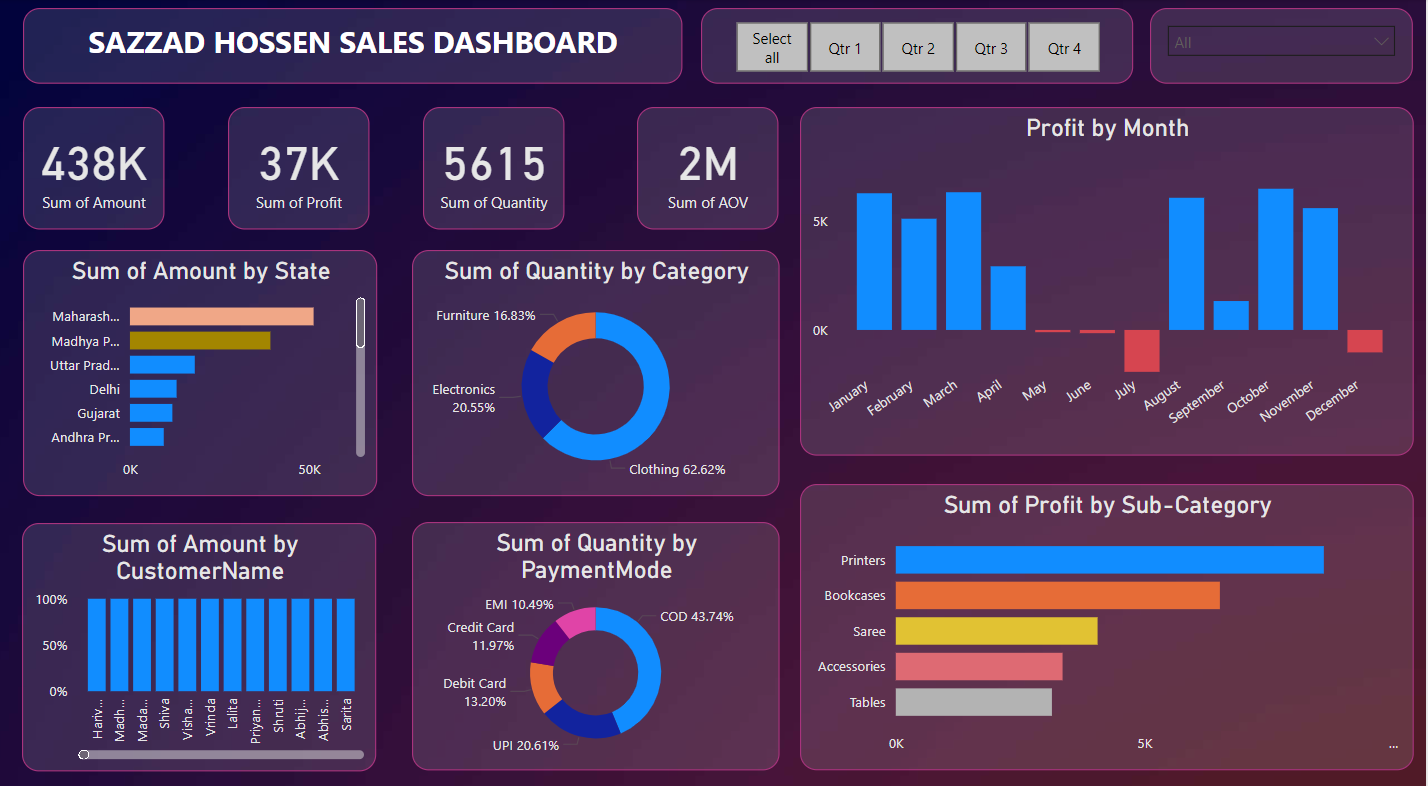

This screenshot's page, from the dashboard's own definition file:
{"tool":"powerbi","page":{"name":"Page 1","canvas":[1280,720],"ordinal":0},"visuals":[{"type":"textbox","box":[20.4,7.8,592.3,68.1],"z":0},{"type":"columnChart","title":"Profit by Month","fields":{"Y":["Sum(Details.Profit)"],"Category":["Orders.Order Date.Variation.Date Hierarchy.Month"]},"box":[717.8,97.3,550.5,313.2],"z":1000},{"type":"barChart","fields":{"Category":["Details.Sub-Category"],"Y":["Sum(Details.Profit)"]},"box":[717.8,435.7,550.5,256.8],"z":2000},{"type":"donutChart","fields":{"Category":["Details.Category"],"Y":["Sum(Details.Quantity)"]},"box":[369.6,225.7,329.7,220.8],"z":3000},{"type":"donutChart","fields":{"Y":["Sum(Details.Quantity)"],"Category":["Details.PaymentMode"]},"box":[369.6,469.8,329.7,222.7],"z":4000},{"type":"card","fields":{"Values":["Sum(Details.Amount)"]},"box":[20.4,97.3,127.4,109.9],"z":5000},{"type":"card","fields":{"Values":["Sum(Details.Quantity)"]},"box":[379.3,97.3,127.4,109.9],"z":6000},{"type":"card","fields":{"Values":["Sum(Details.Profit)"]},"box":[204.3,97.3,127.4,109.9],"z":7000},{"type":"card","fields":{"Values":["Sum(Details.AOV)"]},"box":[571.9,97.3,127.4,109.9],"z":8000},{"type":"barChart","fields":{"Category":["Orders.State"],"Y":["Sum(Details.Amount)"]},"box":[20.4,225.7,318.1,220.8],"z":9000},{"type":"hundredPercentStackedColumnChart","fields":{"Y":["Sum(Details.Amount)"],"Category":["Orders.CustomerName"]},"box":[20,470,318,223],"z":10000},{"type":"slicer","fields":{"Values":["Orders.Order Date.Variation.Date Hierarchy.Quarter"]},"box":[629.3,7.8,388.1,68.1],"z":11001},{"type":"slicer","fields":{"Values":["Orders.State"]},"box":[1032,7.8,236.4,68.1],"z":11002}]}

Visuals, with their boxes in screenshot pixels (x1, y1, x2, y2), scaled from the page's 1280x720 canvas onto the 1428x786 screenshot:
textbox: detection(23, 9, 684, 83)
"Profit by Month" columnChart: detection(801, 106, 1415, 448)
barChart - Details.Sub-Category x Sum(Details.Profit): detection(801, 476, 1415, 756)
donutChart - Details.Category x Sum(Details.Quantity): detection(412, 246, 780, 487)
donutChart - Sum(Details.Quantity) x Details.PaymentMode: detection(412, 513, 780, 756)
card - Sum(Details.Amount): detection(23, 106, 165, 226)
card - Sum(Details.Quantity): detection(423, 106, 565, 226)
card - Sum(Details.Profit): detection(228, 106, 370, 226)
card - Sum(Details.AOV): detection(638, 106, 780, 226)
barChart - Orders.State x Sum(Details.Amount): detection(23, 246, 378, 487)
hundredPercentStackedColumnChart - Sum(Details.Amount) x Orders.CustomerName: detection(22, 513, 377, 757)
slicer - Orders.Order Date.Variation.Date Hierarchy.Quarter: detection(702, 9, 1135, 83)
slicer - Orders.State: detection(1151, 9, 1415, 83)
